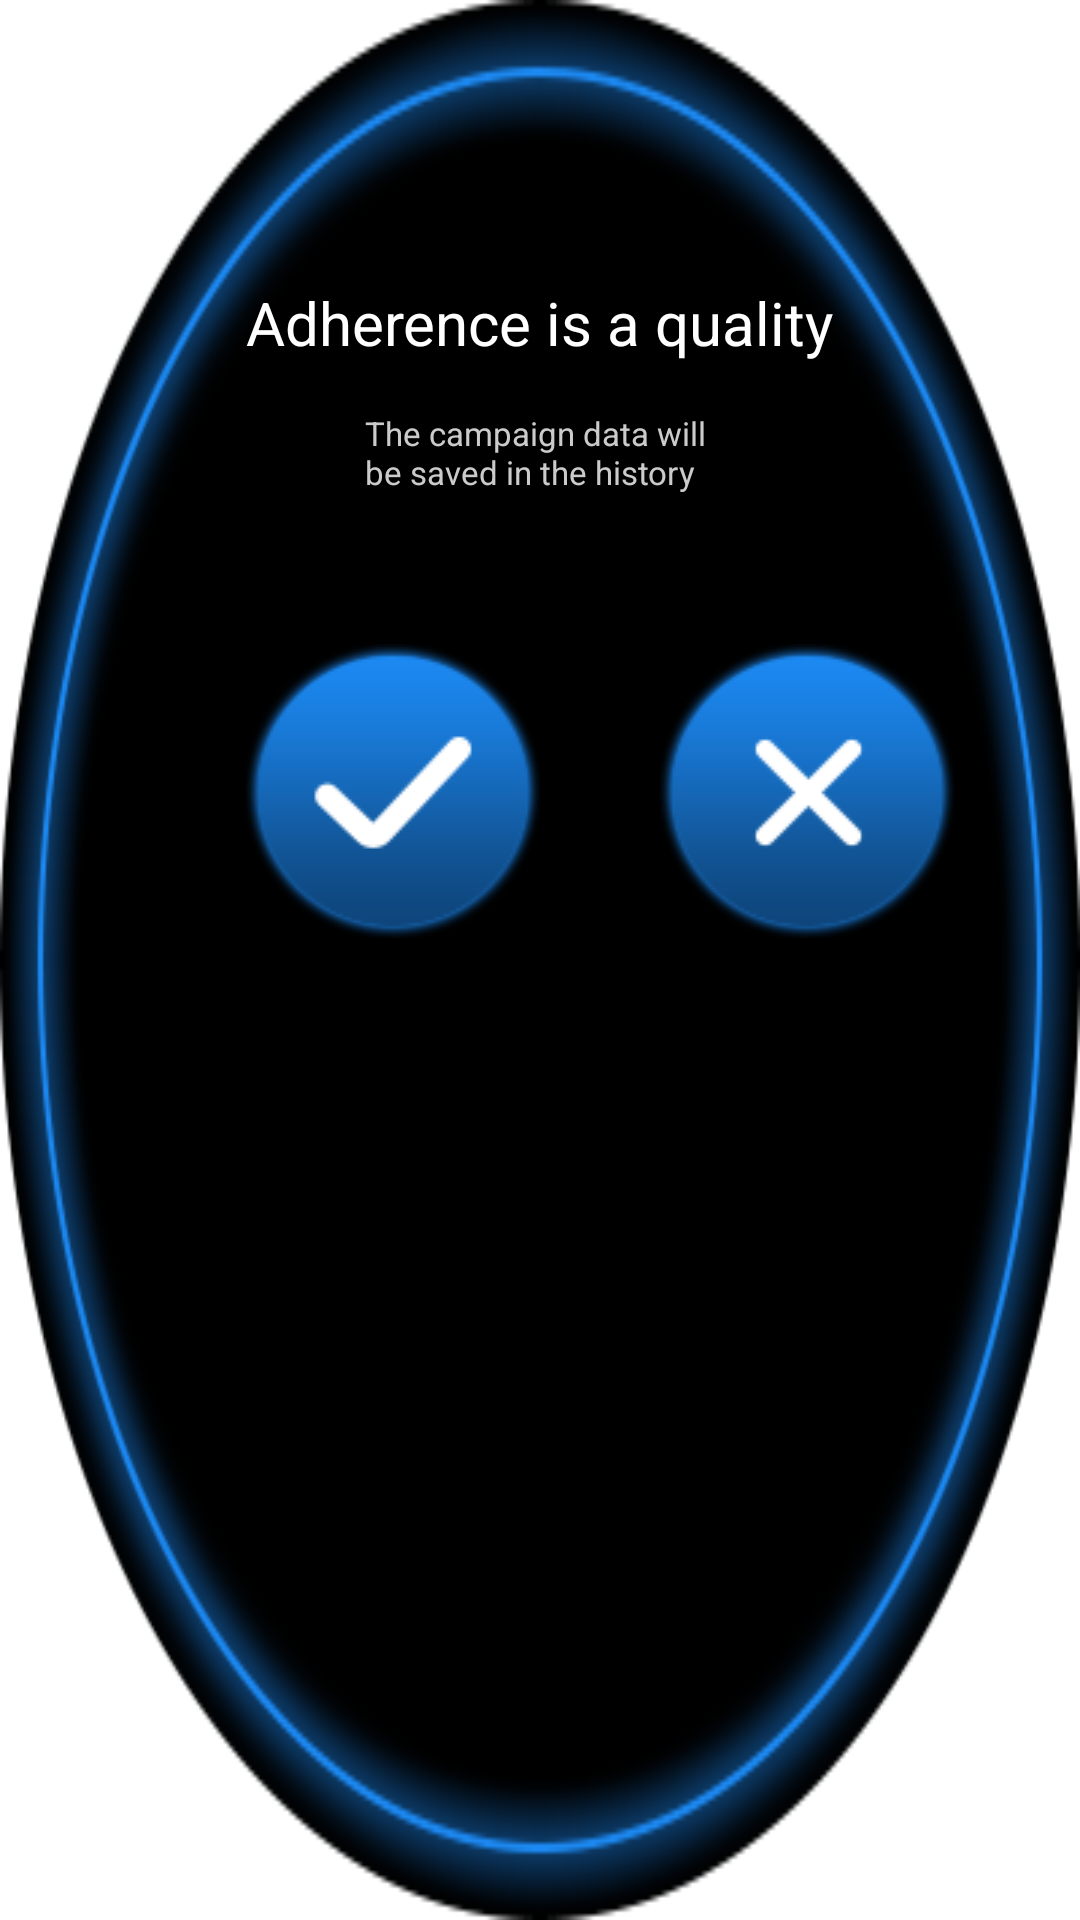

Icon bounding boxes for this 1080w x 1920h phone screenshot, format {"left": x1, "top": y1, "right": x2, "bottom": y2}:
cancel: {"left": 663, "top": 647, "right": 951, "bottom": 935}
confirm: {"left": 249, "top": 647, "right": 537, "bottom": 935}
